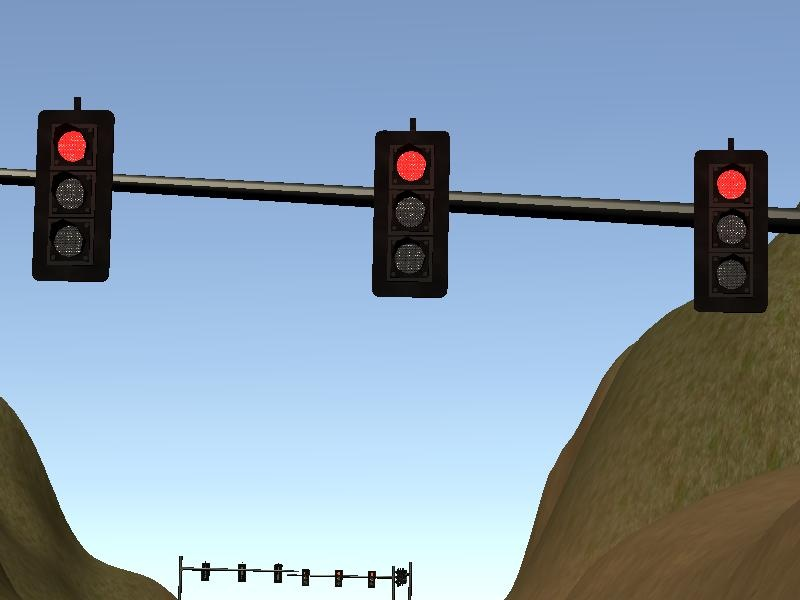red: (33, 111, 116, 282), (372, 130, 450, 299), (694, 151, 767, 314)
